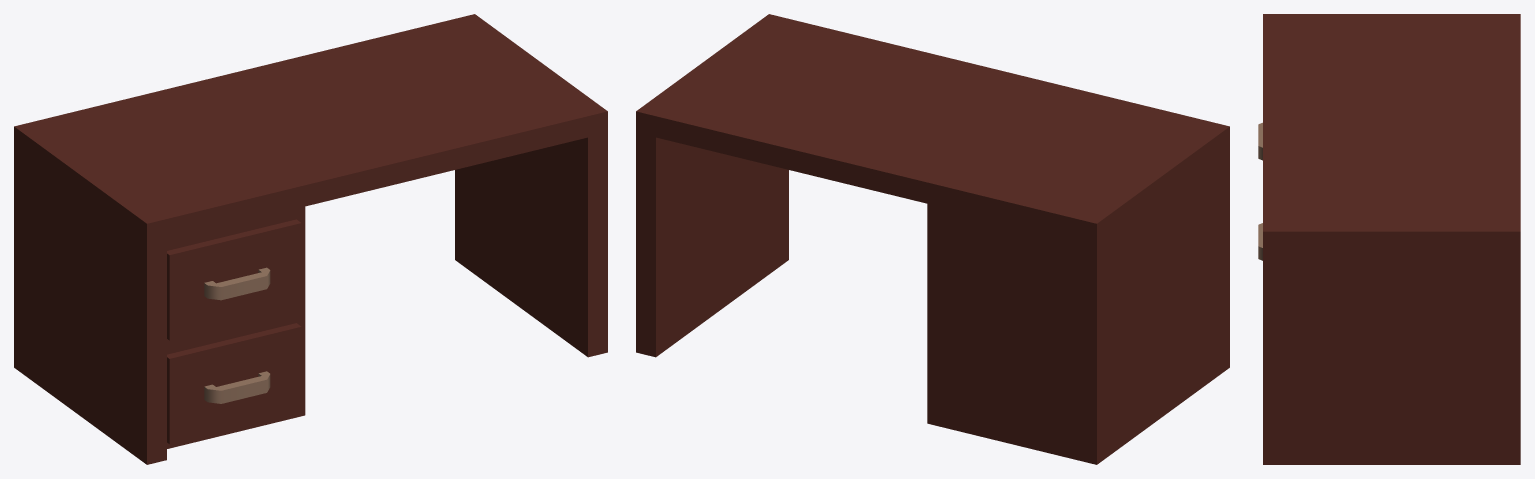
Rendered from SM_Desk.fbx.
3 renders of one model, left to right at view 1: azimuth 30°, elevation 25°; view 2: azimuth 150°, elevation 25°; view 3: azimuth 270°, elevation 25°, orthographic. The views are drawn at different scales.
Parts seen in each view (by area): view 1: SM_Desk; view 2: SM_Desk; view 3: SM_Desk.
Part boxes in pixels (x1,y1,x2,y2): SM_Desk: [14, 14, 607, 464]; SM_Desk: [636, 14, 1229, 464]; SM_Desk: [1258, 14, 1520, 464].
Size of the model in its own units: 2 by 1 by 1.02.
